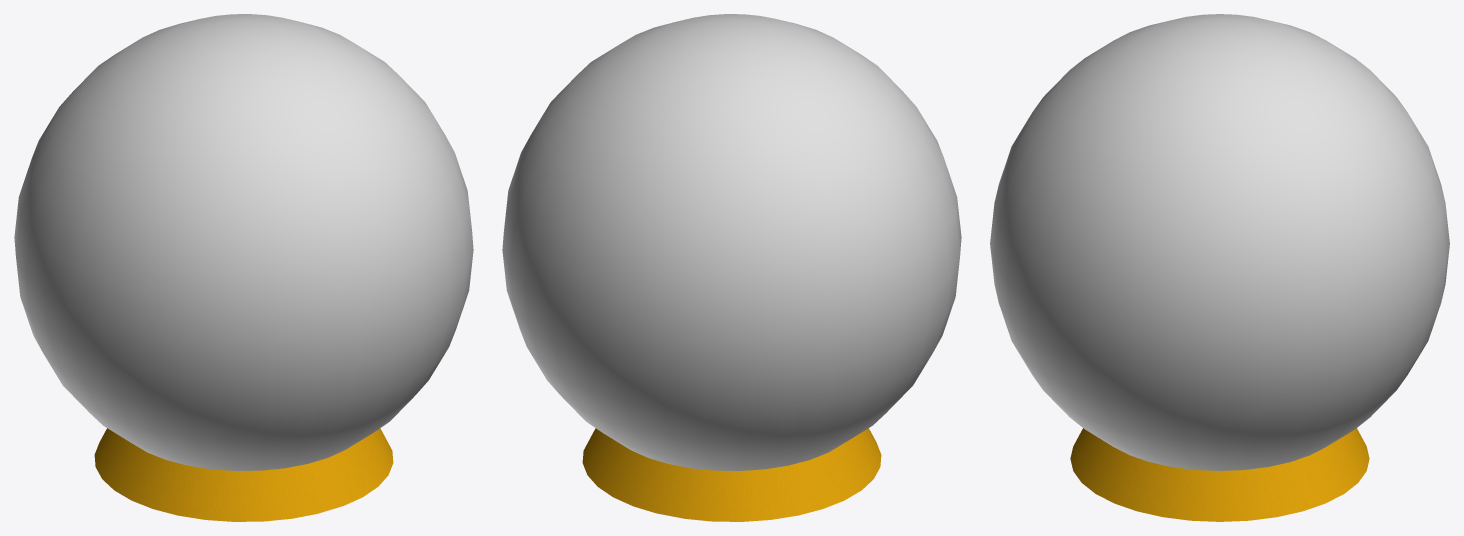
File: Scp2028.glb
3 renders of one model, left to right at view 1: azimuth 30°, elevation 25°; view 2: azimuth 150°, elevation 25°; view 3: azimuth 270°, elevation 25°, orthographic.
Visible parts, largest first — view 1: Glass, Bottom; view 2: Glass, Bottom; view 3: Glass, Bottom.
Part boxes in pixels (x1,y1,x2,y2): Glass: (14,14,473,470); Bottom: (94,428,393,521); Glass: (502,14,961,470); Bottom: (582,428,881,521); Glass: (990,14,1449,470); Bottom: (1070,428,1369,521).
Bounding box in the file's own units: 2 × 2.03 × 2.
2 materials, 1 textured.
